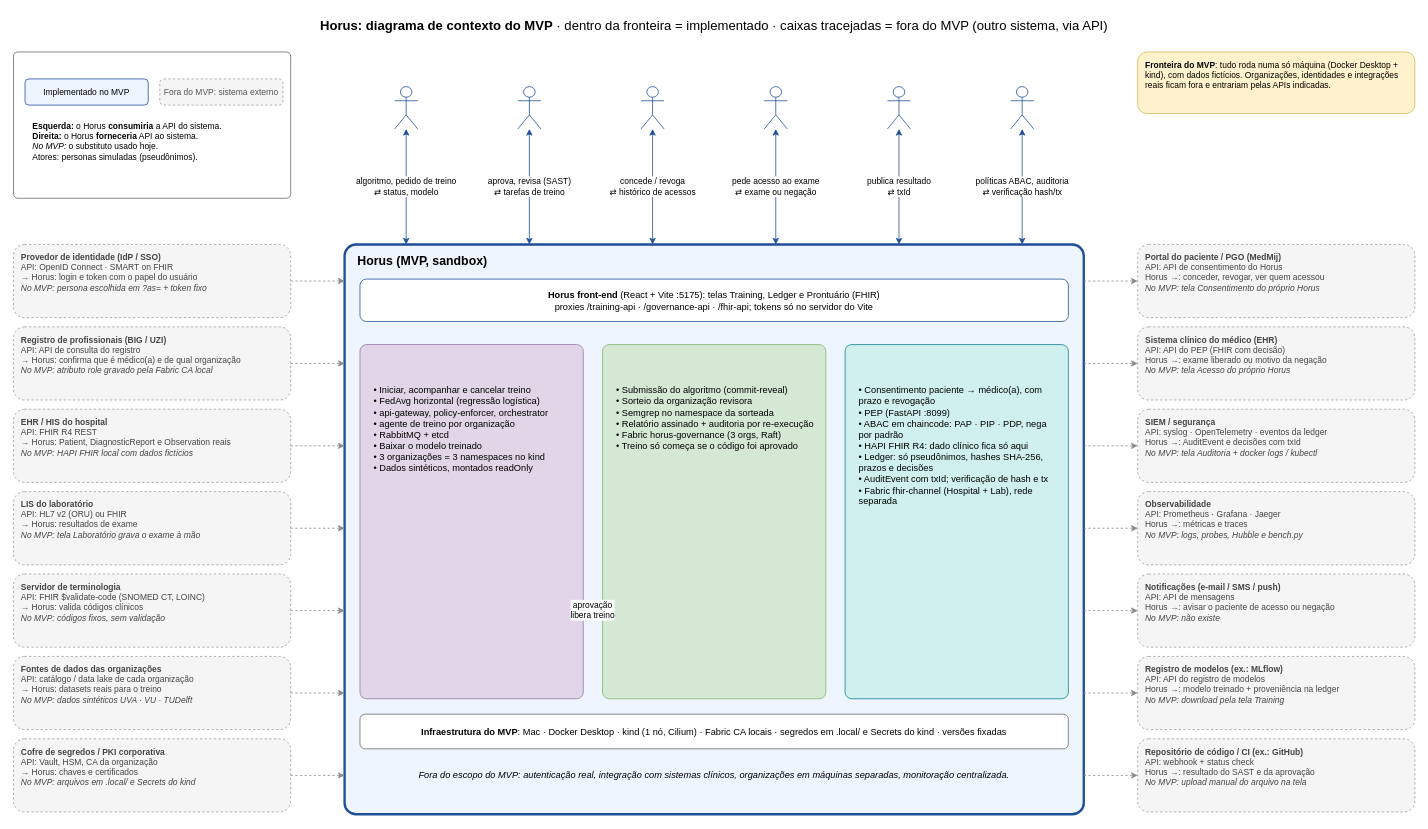
Image size: 1428x829. Some labels were removed from this diagram. The shapes that lost their labels are listed below. From the top down, each one's box as (x1, y1, x2, y2) in pixels, then its label:
(13, 51, 291, 198): Legenda
(394, 86, 418, 129): Pesquisador(a)
(517, 86, 541, 129): Organizações de dados (UVA · VU · TUDelft)
(640, 86, 664, 129): Paciente
(763, 86, 787, 129): Médico(a)
(887, 86, 911, 129): Laboratório
(1010, 86, 1034, 129): Administrador(a) / auditor(a)
(359, 344, 583, 699): Treino federado (DYNAMOS)
(602, 344, 826, 699): Governança zero-trust
(844, 344, 1068, 699): Prontuário com consentimento (FHIR)
